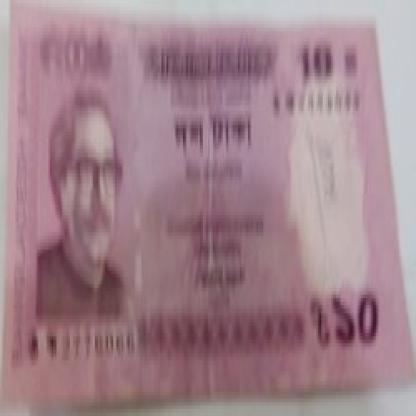Ten Taka: (333, 278, 396, 361), (38, 24, 108, 97), (286, 38, 343, 94)
